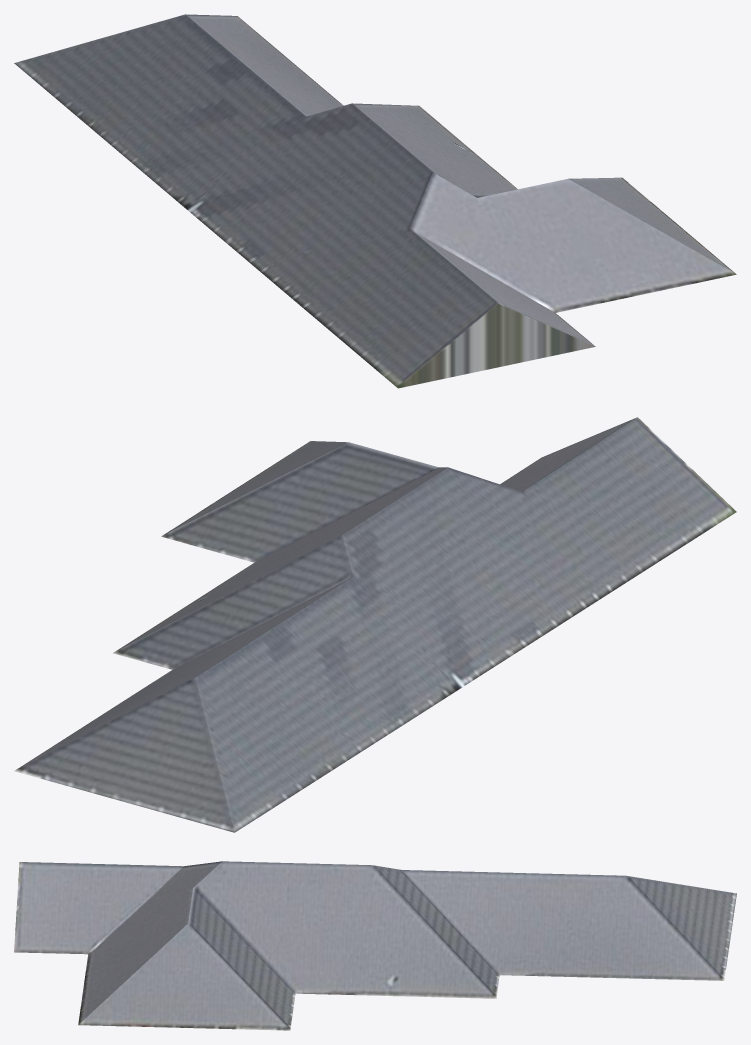
The model's file is CG10_500_041068_0069_roof.obj.
The picture shows the model from 3 angles, top to bottom: view 1: azimuth 30°, elevation 25°; view 2: azimuth 150°, elevation 25°; view 3: azimuth 270°, elevation 25°; orthographic projection. The views are drawn at different scales.
Parts seen in each view (by area): view 1: CG10_500_041068_0069_roof; view 2: CG10_500_041068_0069_roof; view 3: CG10_500_041068_0069_roof.
Part boxes in pixels (<box>): CG10_500_041068_0069_roof: <box>14,14,736,388</box>; CG10_500_041068_0069_roof: <box>14,417,736,832</box>; CG10_500_041068_0069_roof: <box>14,861,736,1030</box>.
Size of the model in its own units: 307 by 70 by 603.
Materials: 1 (1 with a texture image).
